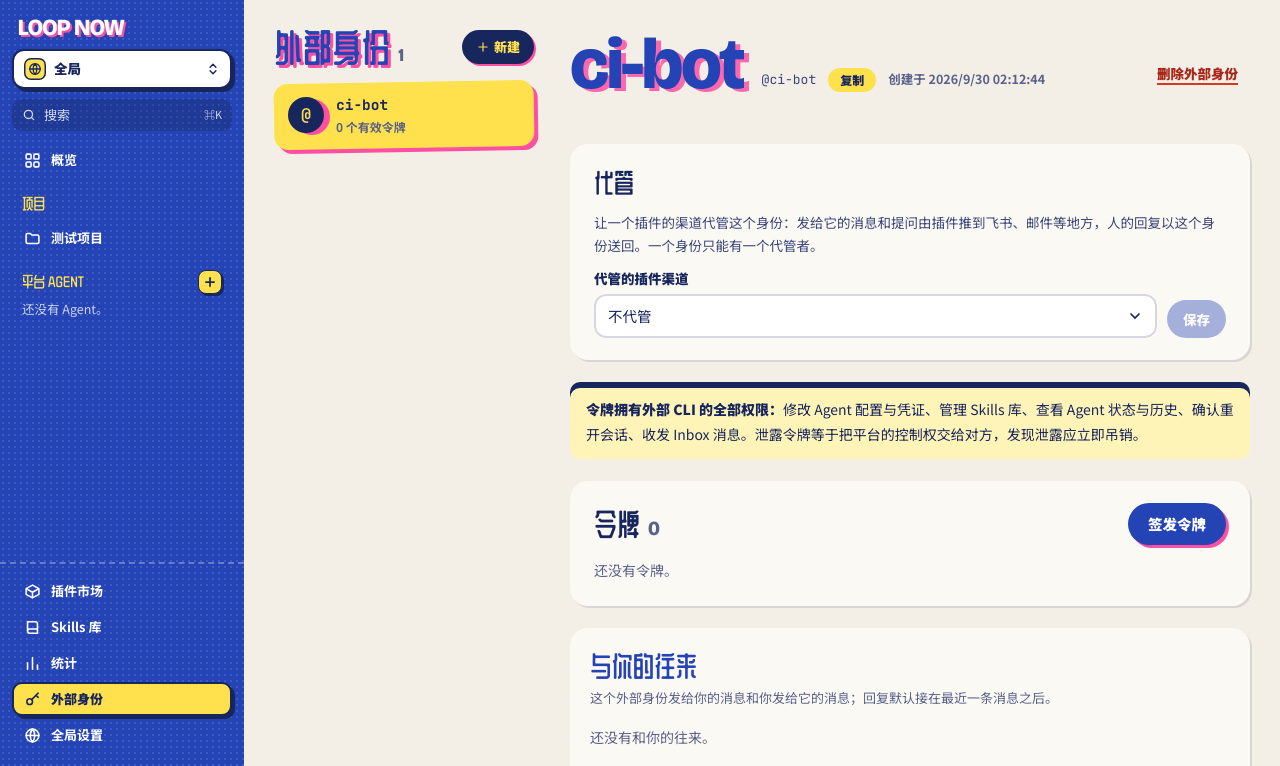
外部身份的代管 › 列出声明了代管的插件渠道；选一个保存，写出当前由谁代管
Expected: the button "保存" is disabled, [1167, 300, 1226, 338]
Select "Webhook 通知 · 回调" in the dropdown labelled "代管的插件渠道" at point(876, 316), box [594, 294, 1157, 338]
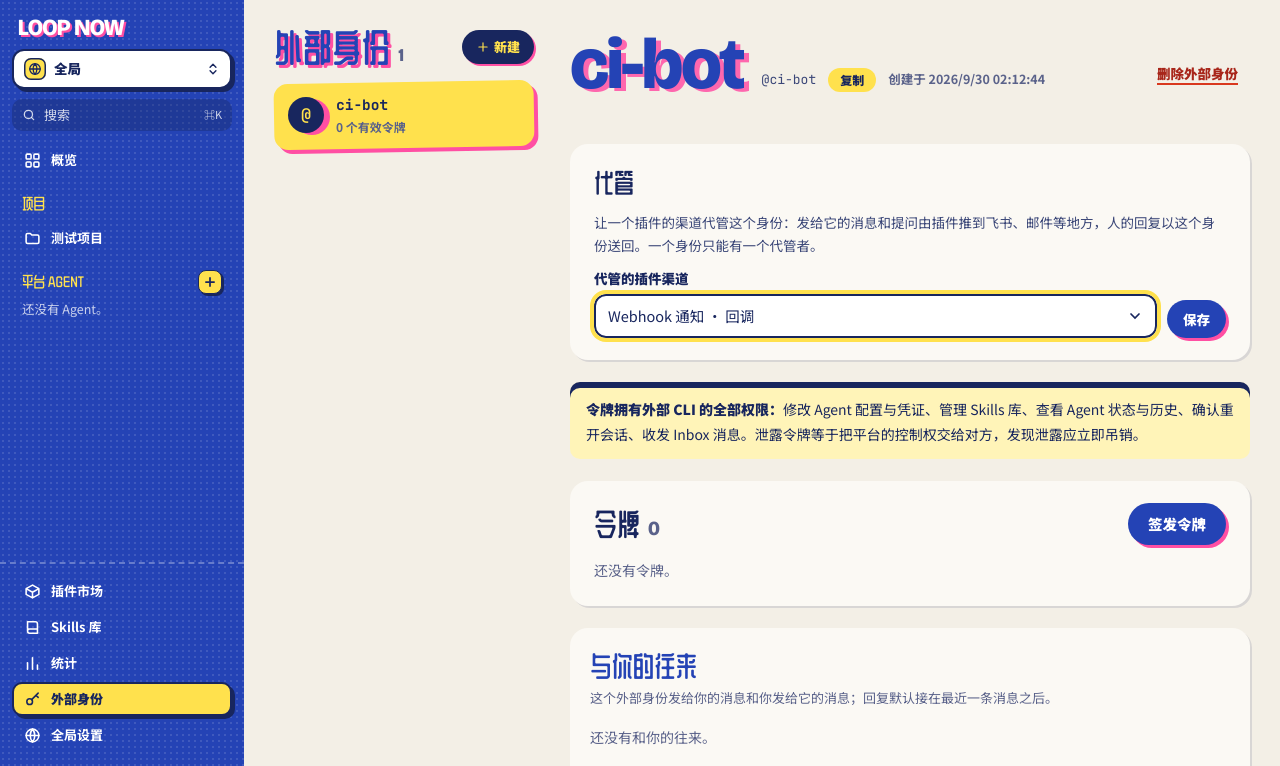
Click the button "保存".
click(1196, 319)  # box [1167, 300, 1226, 338]
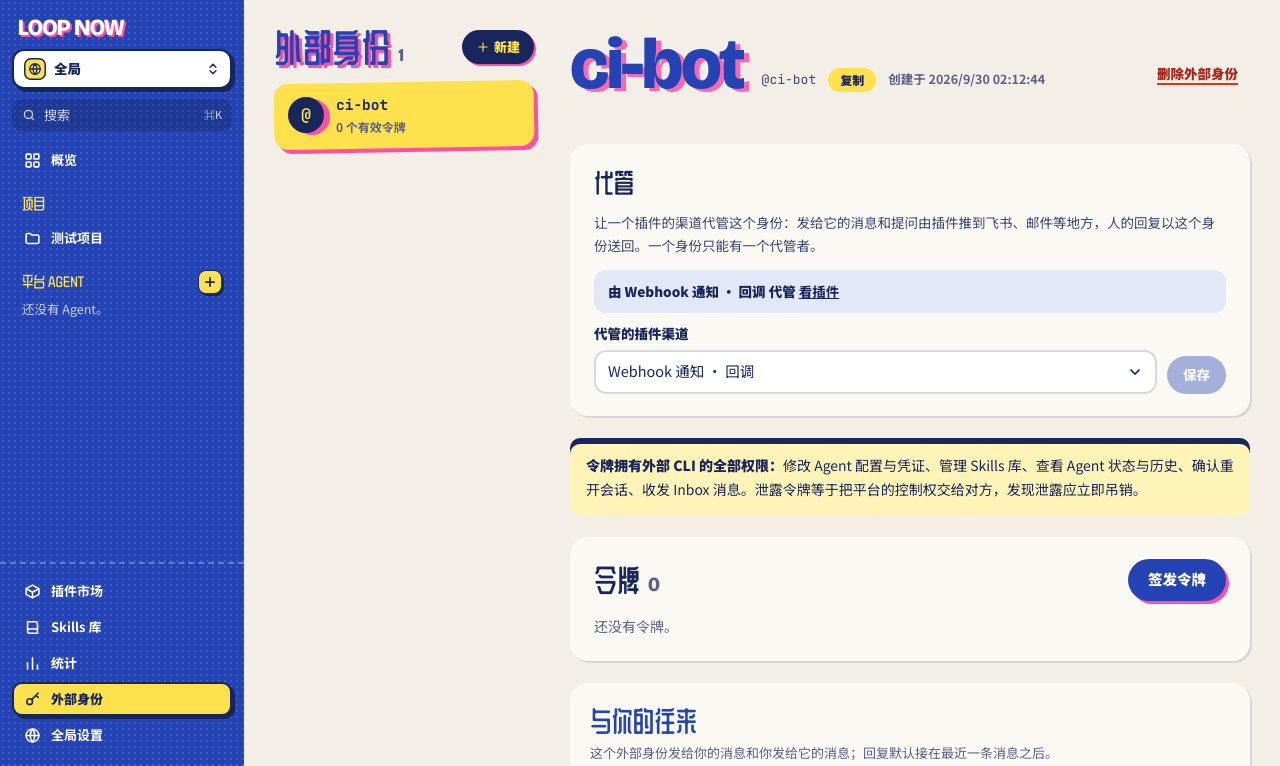
Expected: the message "由 Webhook 通知 · 回调 代管 看插件" is shown, [594, 270, 1226, 313]
